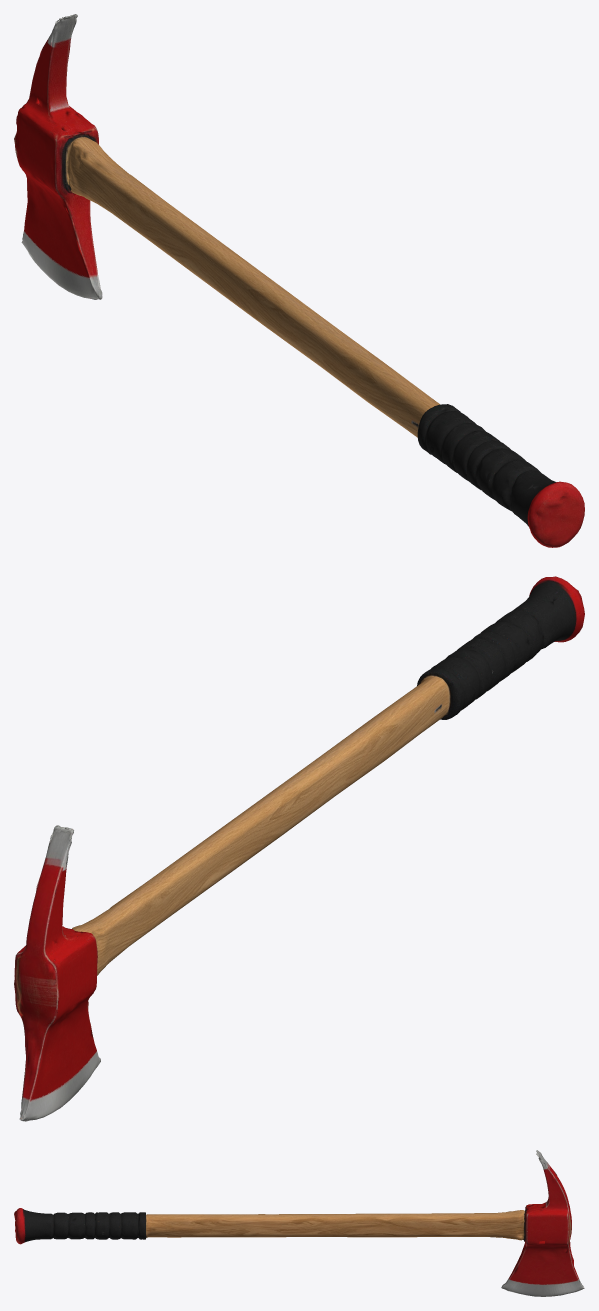
File: weapon-fire-axe.glb
3 views of the same model, one above another, from view 1: azimuth 30°, elevation 25°; view 2: azimuth 150°, elevation 25°; view 3: azimuth 270°, elevation 25° (orthographic). The views are drawn at different scales.
Visible parts, largest first — view 1: fire_axe; view 2: fire_axe; view 3: fire_axe.
Boxes of the visible parts, <box> form: fire_axe: <box>14,14,584,547</box>; fire_axe: <box>14,576,584,1121</box>; fire_axe: <box>14,1150,584,1296</box>.
Bounding box in the file's own units: 0.0526 × 0.252 × 0.9.
Materials: 1 (1 with a texture image).
